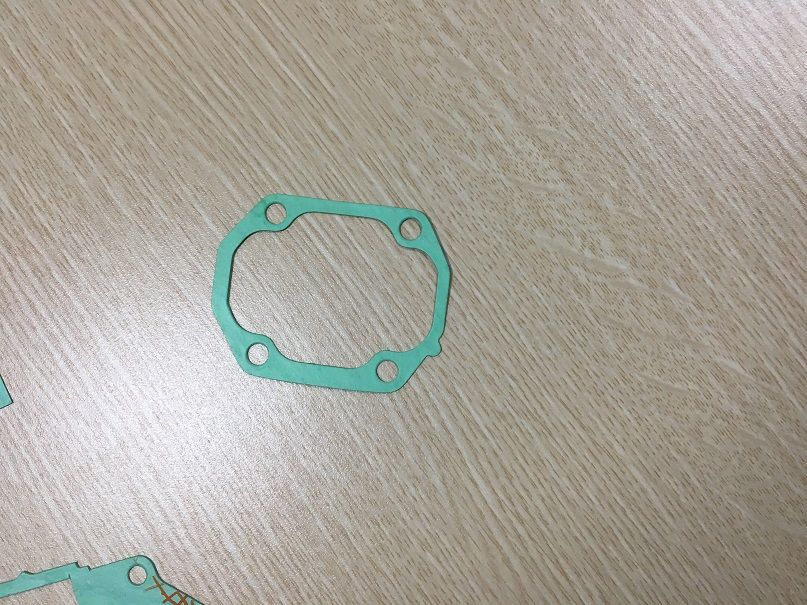type2: (206, 185, 459, 401)
